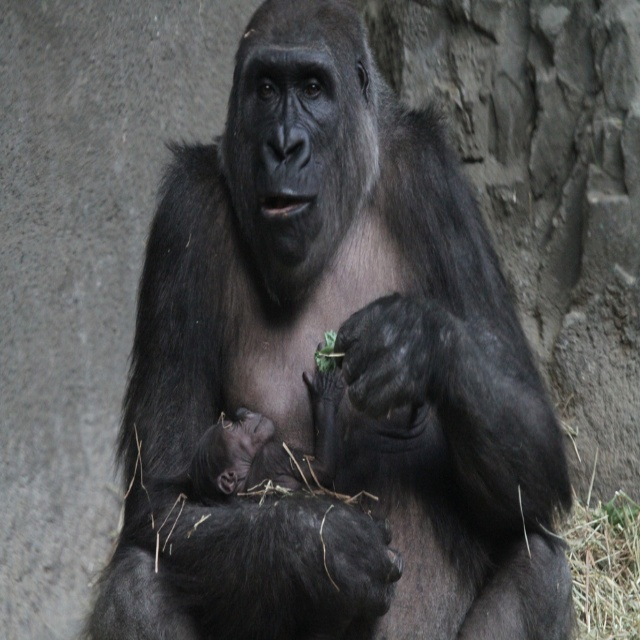Monkey: (100, 16, 602, 639)
